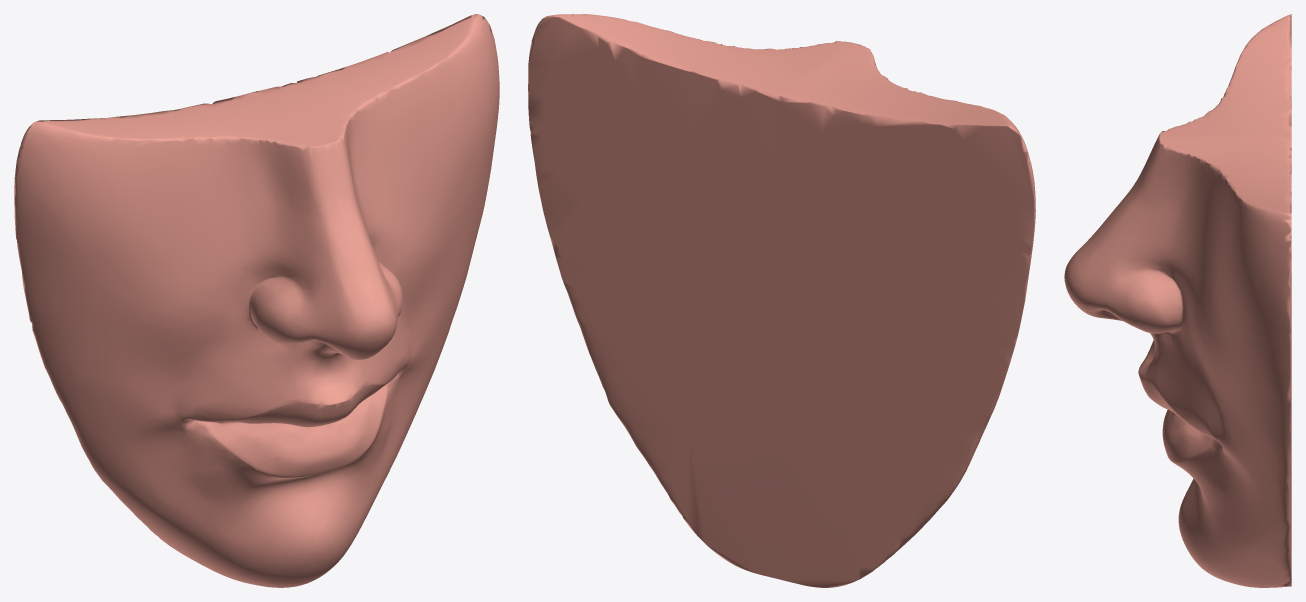
Rendered from narizBoca.fbx.
3 renders of one model, left to right at view 1: azimuth 30°, elevation 25°; view 2: azimuth 150°, elevation 25°; view 3: azimuth 270°, elevation 25°, orthographic. The views are drawn at different scales.
Visible parts, largest first — view 1: narizBoca; view 2: narizBoca; view 3: narizBoca.
Boxes of the visible parts, x1=… form: narizBoca: x1=14, y1=14, x2=499, y2=587; narizBoca: x1=528, y1=14, x2=1035, y2=587; narizBoca: x1=1064, y1=14, x2=1291, y2=587.
Size of the model in its own units: 1.93 by 1.88 by 0.8439.
